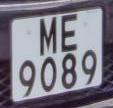0: (38, 55, 61, 96)
8: (60, 51, 80, 92)
9: (17, 53, 40, 101), (79, 47, 99, 91)
E: (59, 11, 81, 57)
M: (37, 13, 61, 60)
